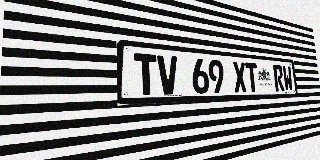6: (191, 58, 210, 94)
9: (208, 59, 225, 93)
R: (273, 65, 285, 91)
T: (134, 53, 158, 96), (245, 62, 259, 92)
V: (157, 55, 179, 95)
W: (282, 65, 293, 91)
X: (232, 61, 247, 93)
